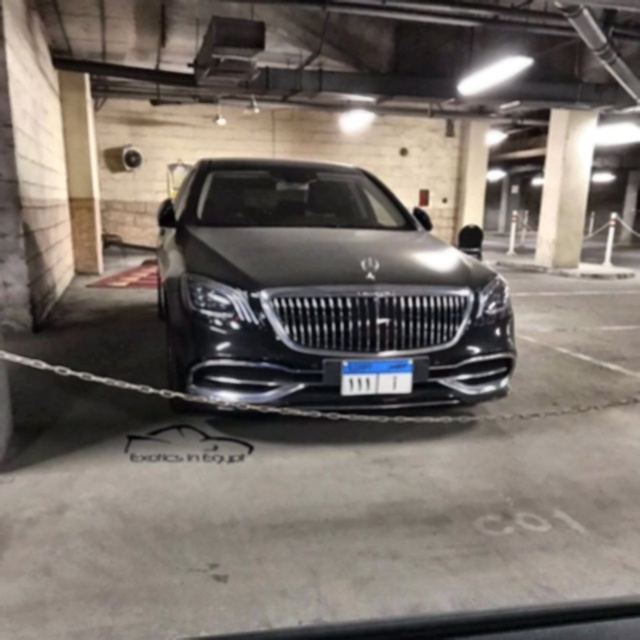License Plate: (337, 356, 416, 398)
